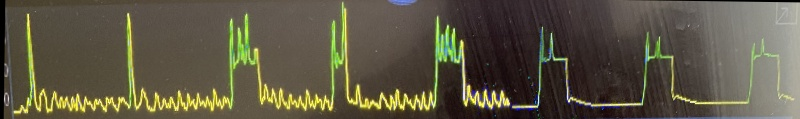hydrop_pressure: (7, 0, 798, 119)
